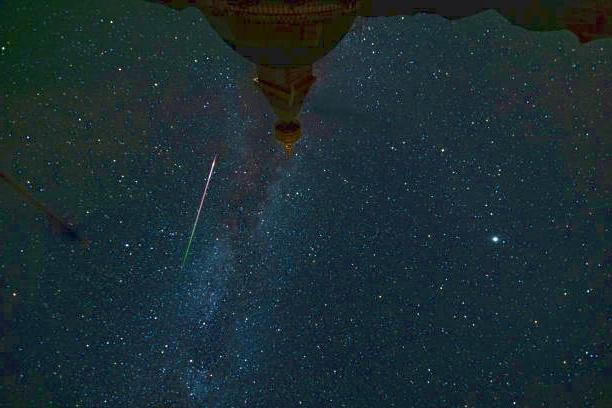meteorite: (185, 153, 221, 244)
